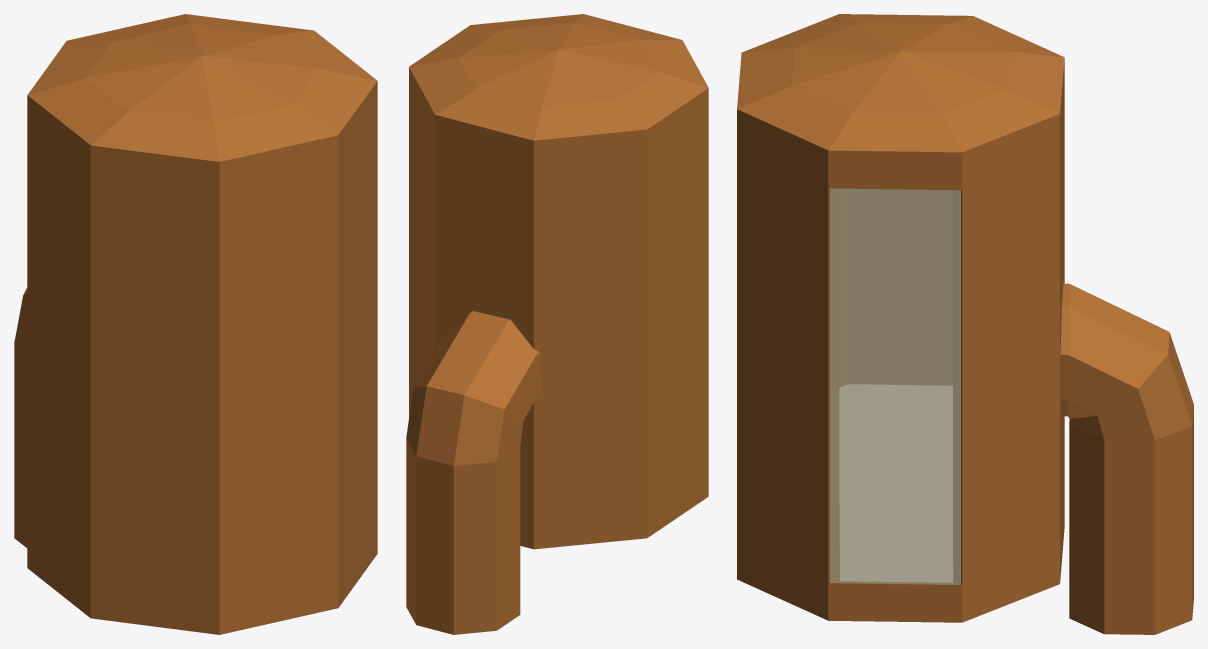
File: VAT20.glb
The picture shows the model from 3 angles, left to right: view 1: azimuth 30°, elevation 25°; view 2: azimuth 150°, elevation 25°; view 3: azimuth 270°, elevation 25°; orthographic projection. The views are drawn at different scales.
Visible parts, largest first — view 1: Cylinder, Cylinder.001; view 2: Cylinder, Cylinder.001; view 3: Cylinder, glass, Cylinder.001, liquidHeight.
Boxes of the visible parts, x1=… form: Cylinder: x1=27, y1=14, x2=377, y2=634; Cylinder.001: x1=14, y1=287, x2=27, y2=547; Cylinder: x1=409, y1=14, x2=708, y2=549; Cylinder.001: x1=406, y1=311, x2=541, y2=634; Cylinder: x1=737, y1=14, x2=1064, y2=622; glass: x1=830, y1=188, x2=960, y2=584; Cylinder.001: x1=1060, y1=283, x2=1193, y2=634; liquidHeight: x1=840, y1=385, x2=952, y2=582.
Bounding box in the file's own units: 1.82 × 3.44 × 2.54.
